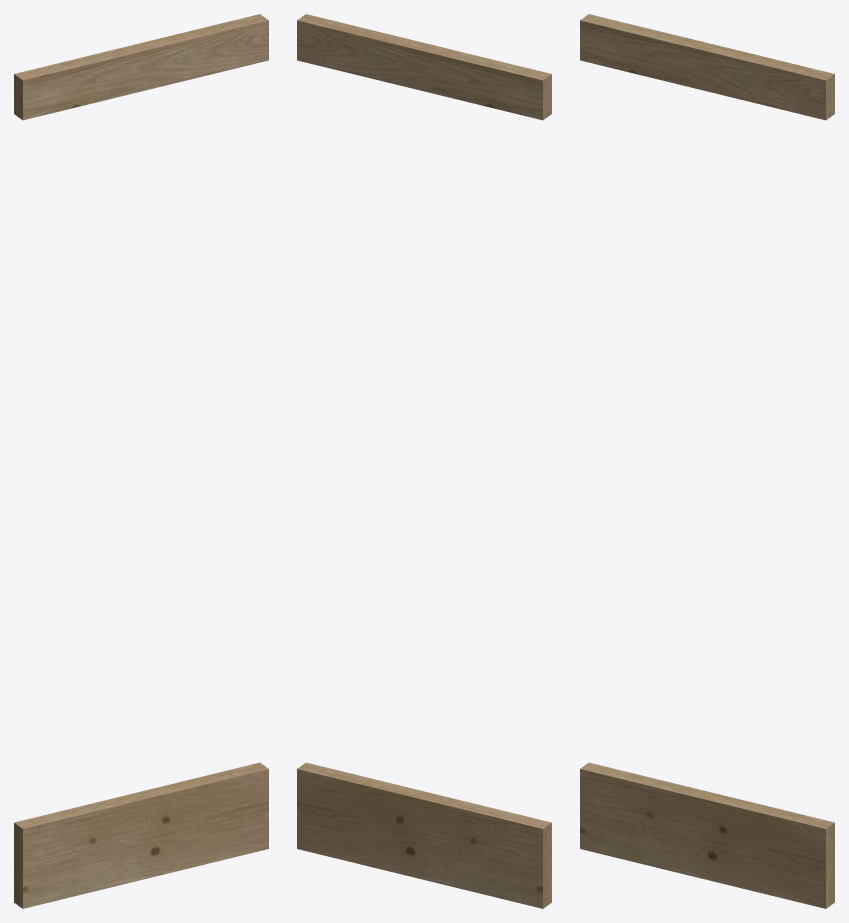
Rendered from Joglo_part_298.fbx.
The picture shows the model from 3 angles, left to right: view 1: azimuth 30°, elevation 25°; view 2: azimuth 150°, elevation 25°; view 3: azimuth 330°, elevation 25°; orthographic projection.
Parts seen in each view (by area): view 1: Mesh361_Wood___Pine_Grained_Horizontal_0.001; view 2: Mesh361_Wood___Pine_Grained_Horizontal_0.001; view 3: Mesh361_Wood___Pine_Grained_Horizontal_0.001.
Boxes of the visible parts, x1=… form: Mesh361_Wood___Pine_Grained_Horizontal_0.001: x1=14, y1=14, x2=268, y2=908; Mesh361_Wood___Pine_Grained_Horizontal_0.001: x1=297, y1=14, x2=551, y2=908; Mesh361_Wood___Pine_Grained_Horizontal_0.001: x1=580, y1=14, x2=834, y2=908.
Size of the model in its own units: 25.35 by 81.57 by 1.57.
